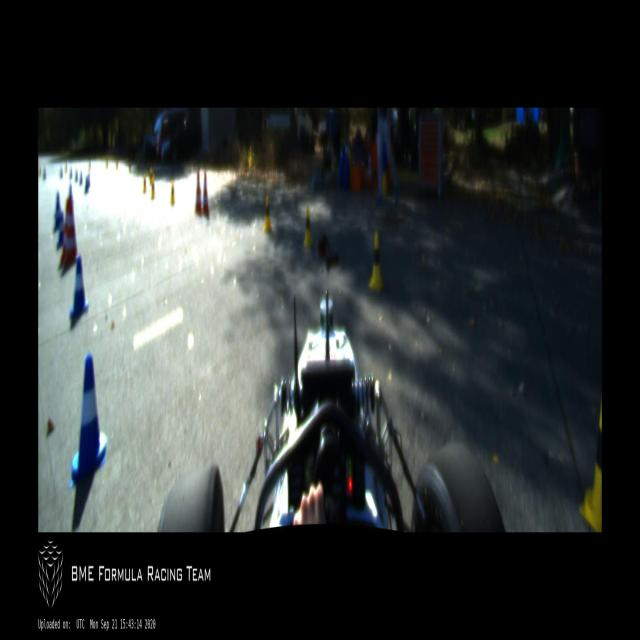blue_cone: (70, 354, 108, 488), (70, 257, 89, 318), (58, 213, 65, 243), (55, 206, 60, 229)
large_orange_cone: (64, 200, 78, 264), (60, 198, 72, 262), (202, 171, 210, 215), (195, 169, 202, 214)
yellow_cone: (579, 391, 601, 532), (369, 230, 385, 293), (304, 205, 314, 248), (263, 196, 271, 233), (170, 179, 175, 205), (151, 178, 155, 198), (143, 175, 146, 192)
